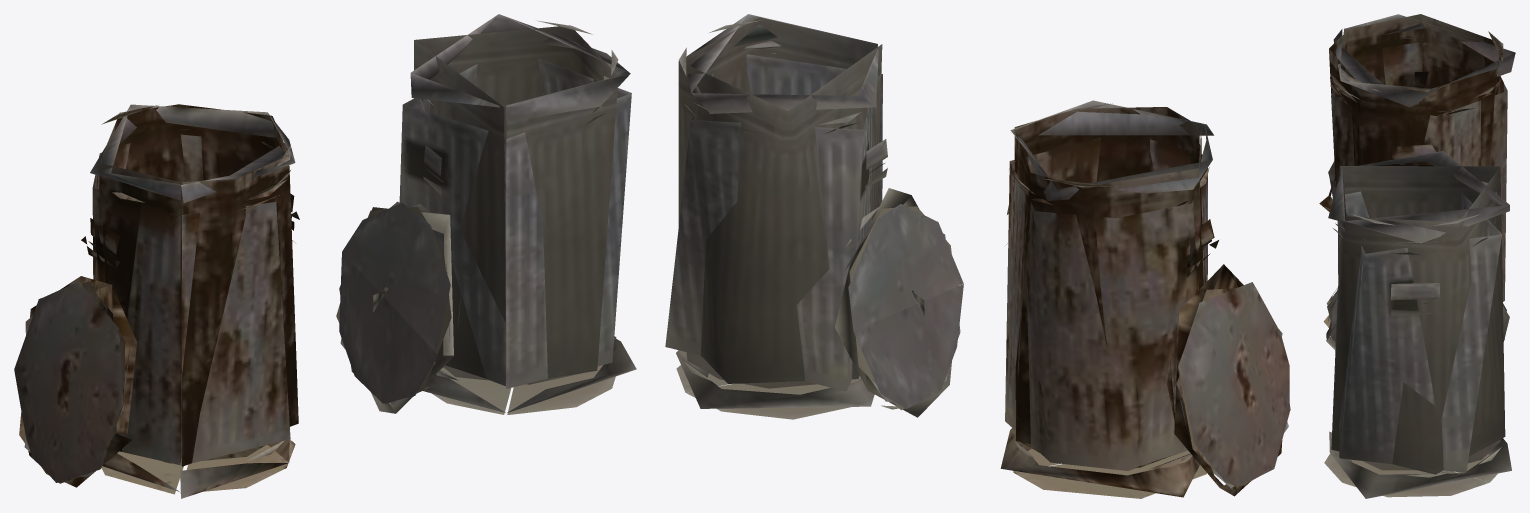
File: trashcan.glb
3 views of the same model, side by side, from view 1: azimuth 30°, elevation 25°; view 2: azimuth 150°, elevation 25°; view 3: azimuth 270°, elevation 25° (orthographic). The views are drawn at different scales.
Visible parts, largest first — view 1: metal_trash_can_handle_left; view 2: metal_trash_can_handle_left; view 3: metal_trash_can_handle_left.
Boxes of the visible parts, left/top/right/bottom form: metal_trash_can_handle_left: left=14, top=14, right=636, bottom=498; metal_trash_can_handle_left: left=665, top=14, right=1290, bottom=498; metal_trash_can_handle_left: left=1319, top=14, right=1515, bottom=498.
Size of the model in its own units: 1.82 by 0.9766 by 0.626.
Materials: 2 (2 with a texture image).
